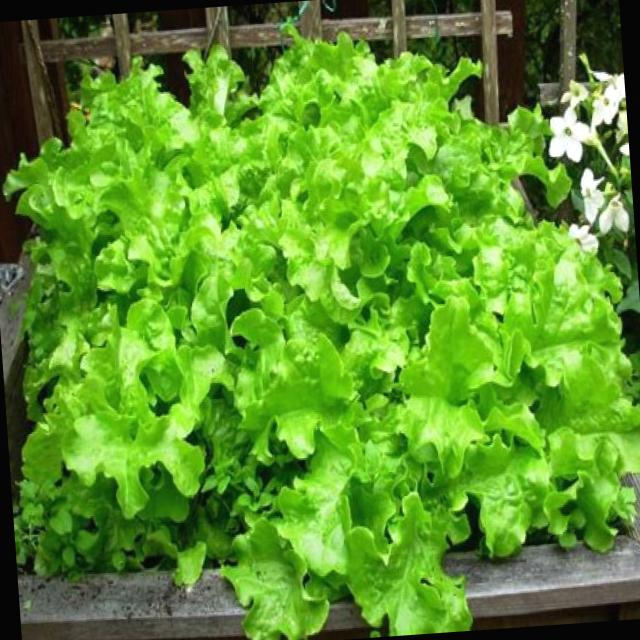Lettuce-Ready-to-Harvest: (6, 38, 640, 640)
